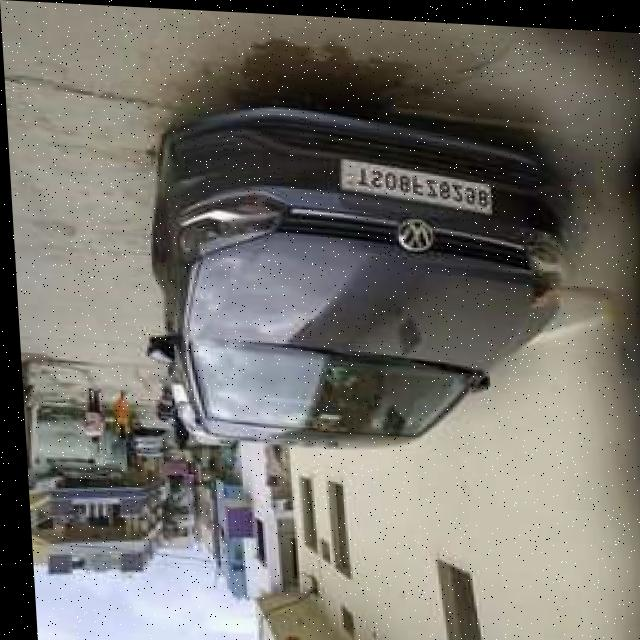plate: (334, 157, 499, 206)
